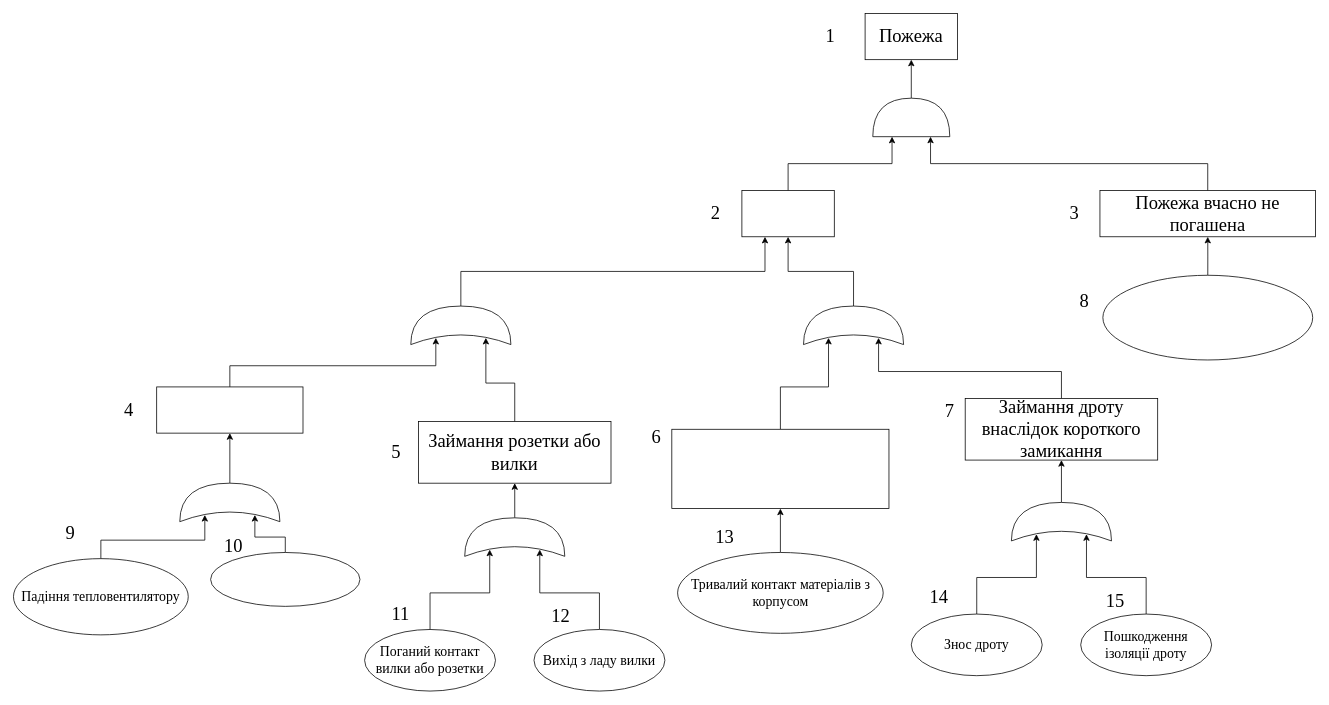
Some shapes in this 1329 by 705 pixel diagram are drawn without their labels. The centre of each missing label's shape, as x and y in pixels:
Займання: pixel 787 213
Займання матеріалів, які торкаються корпусу: pixel 780 469
Тепловентилятор включений без догляду: pixel 1207 317
Удар в корпус: pixel 285 579
Фізичне пошкодження: pixel 229 409
